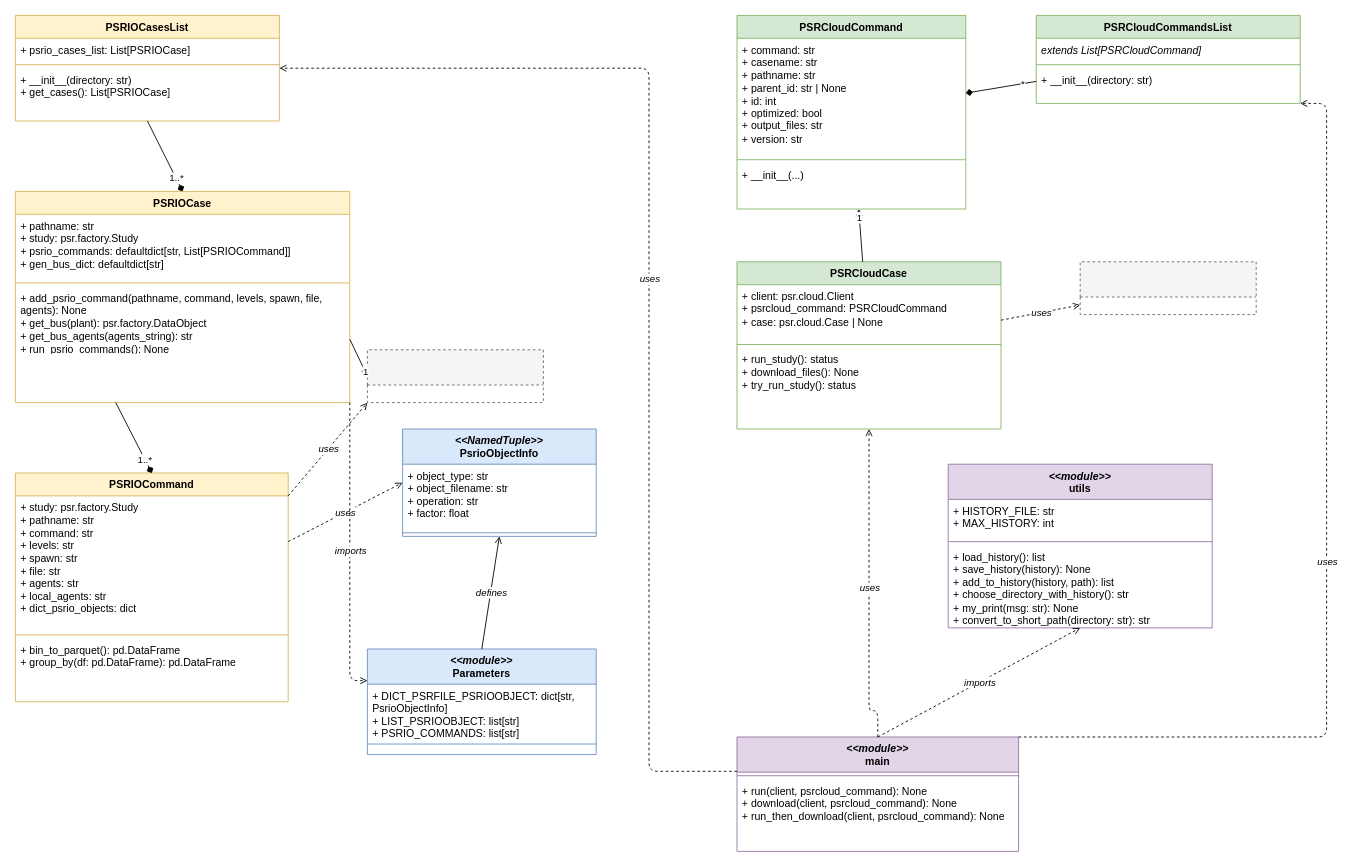
Image size: 1353x867. Some labels were removed from this diagram. Here are the shapes that lost their labels. From the top down, the centre of each, then its label:
(1167,288): <<external>> psr.cloud.Client
(455,376): <<external>> psr.factory.Study
